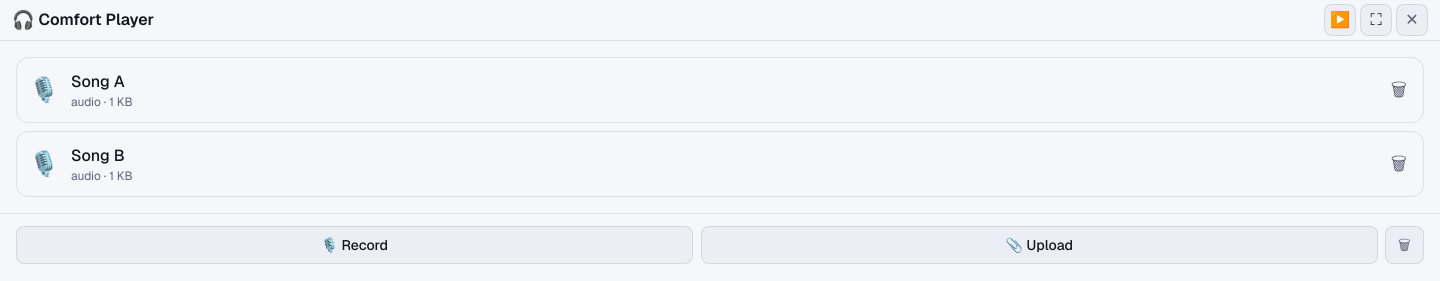
Test case: ComfortPlayerPanel — clear confirmation flow › clicking trash shows confirmation instead of immediately clearing
Click the button named "Delete all media" at (1405, 245), box 1385,226 -> 1424,264
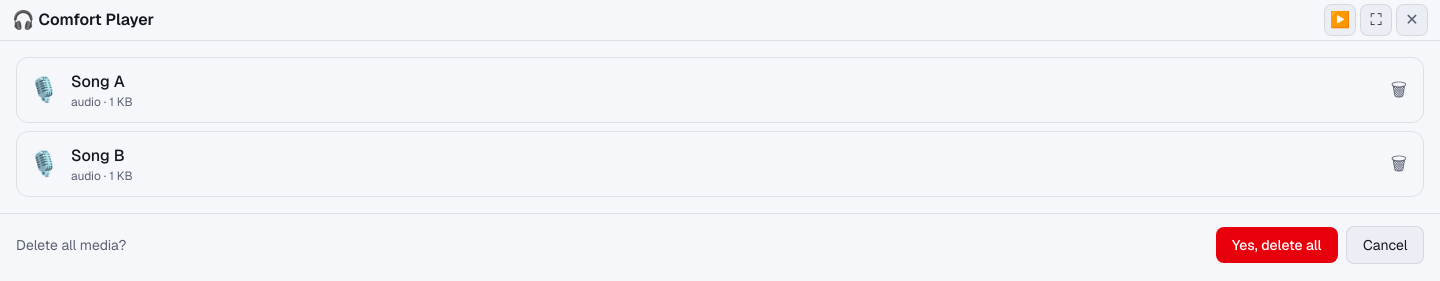
Expected: the text "Delete all media?" is shown, 16,236 -> 126,254
Expected: the button "Yes, delete all" is shown, 1216,227 -> 1338,263
Expected: the button "Cancel" is shown, 1346,226 -> 1424,264
